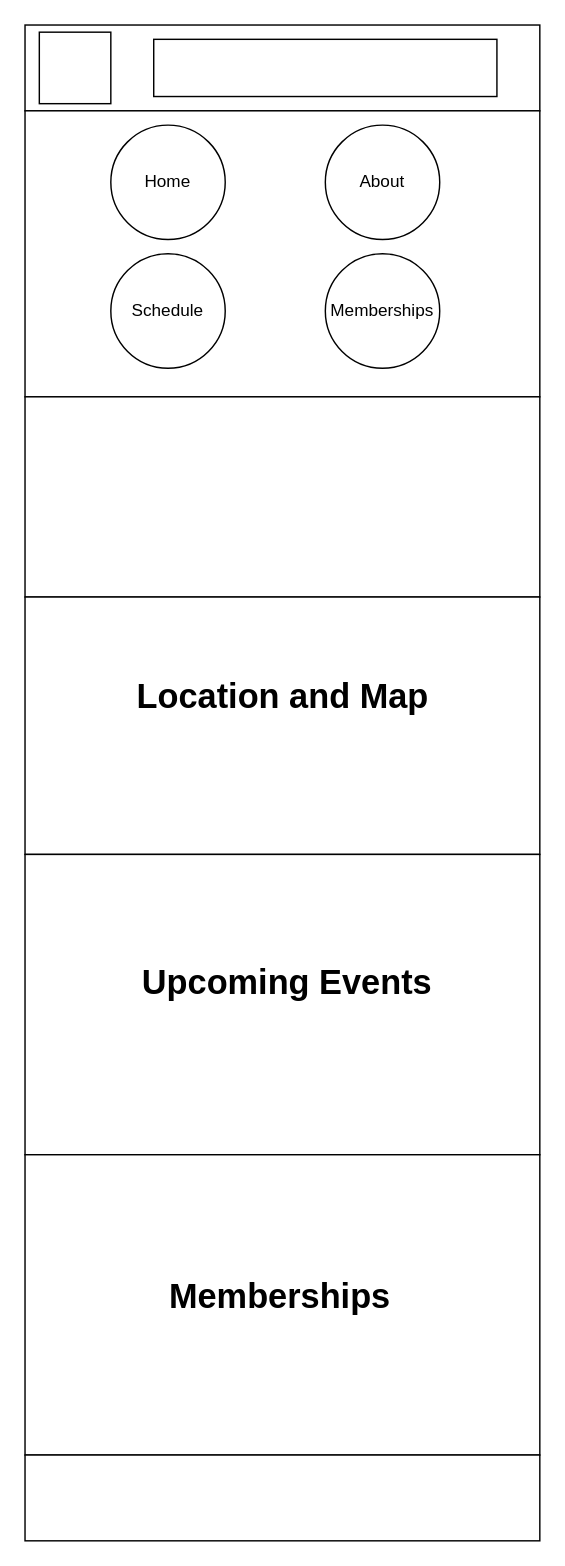
Some shapes in this 565 by 1566 pixel diagram are drawn without their labels. Here are the shapes that lost their labels. From the top down, the centre of each, then its label:
(74,67): Logo
(324,67): Title
(282,496): Image
(282,1497): Footer
